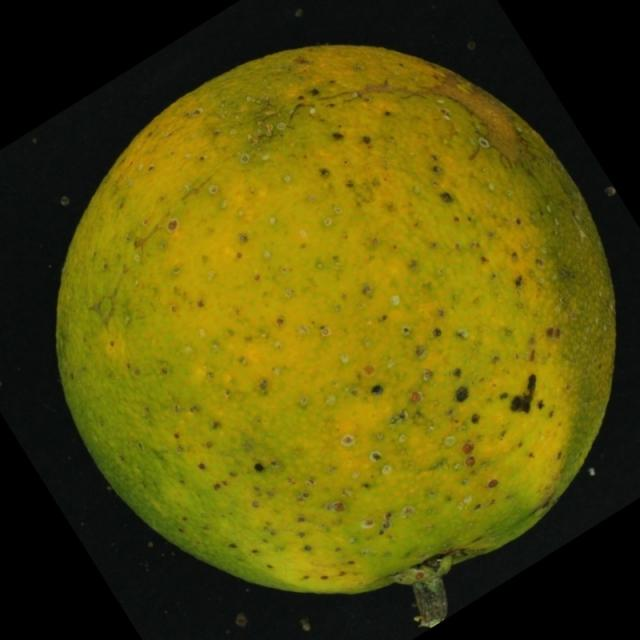grenning: (28, 30, 635, 636)
